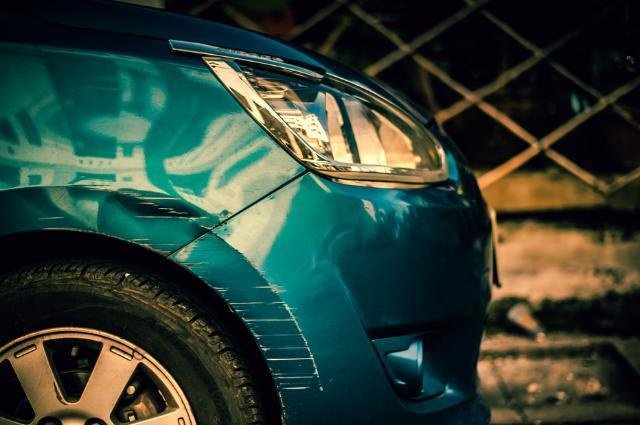Bumper: (183, 231, 351, 410)
Fender: (6, 144, 205, 238)
